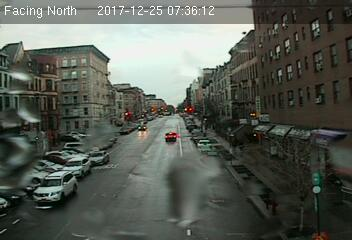car: (33, 171, 77, 206), (66, 156, 90, 178), (87, 148, 110, 163), (164, 131, 177, 141)
